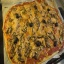olives: (11, 37, 20, 46), (32, 41, 44, 47), (51, 39, 58, 49), (25, 23, 36, 29), (52, 21, 61, 28), (41, 18, 47, 26)
pizza: (3, 1, 63, 64)
